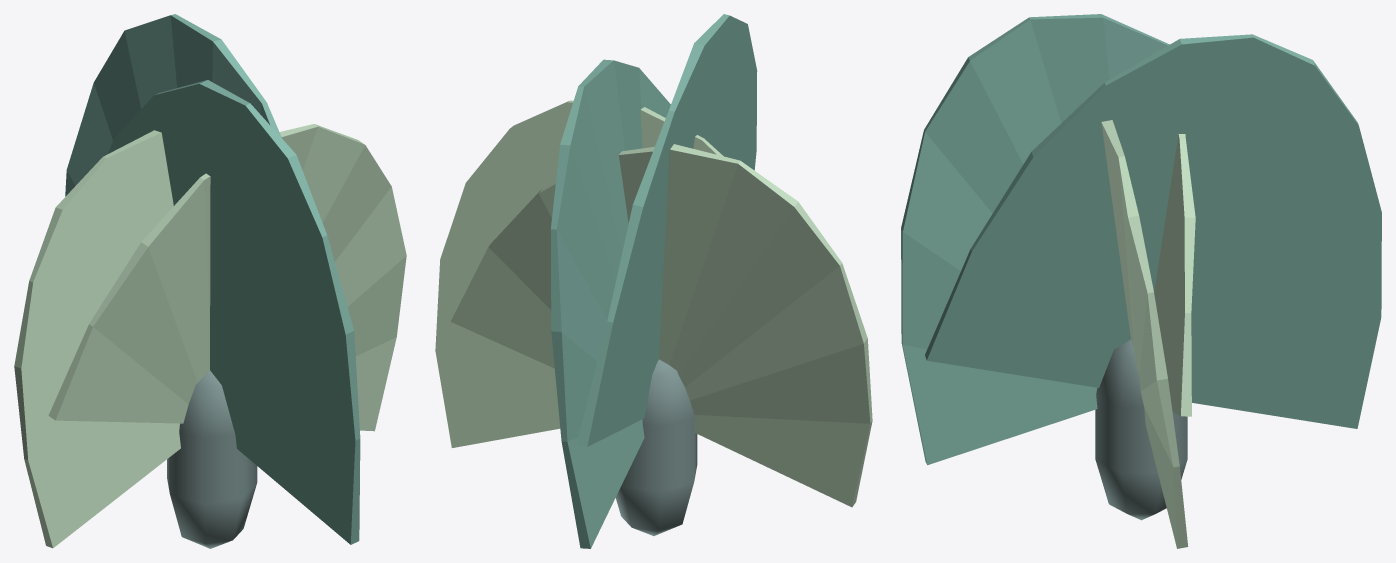
Rendered from tree-sporeFan.glb.
The picture shows the model from 3 angles, left to right: view 1: azimuth 30°, elevation 25°; view 2: azimuth 150°, elevation 25°; view 3: azimuth 270°, elevation 25°; orthographic projection.
Visible parts, largest first — view 1: fan-2, fan-1, fan-3, fan-4, root-succulent; view 2: fan-3, fan-4, fan-2, fan-1, root-succulent; view 3: fan-4, fan-2, fan-1, root-succulent, fan-3.
Boxes of the visible parts, x1,y1,x2,y2 form: fan-2: (107, 80, 360, 544); fan-1: (48, 124, 406, 431); fan-3: (14, 130, 180, 548); fan-4: (65, 14, 281, 196); root-succulent: (167, 370, 257, 548); fan-3: (450, 144, 872, 507); fan-4: (550, 59, 670, 548); fan-2: (577, 14, 757, 446); fan-1: (435, 100, 723, 447); root-succulent: (615, 359, 697, 535); fan-4: (925, 34, 1381, 428); fan-2: (901, 14, 1169, 465); fan-1: (1101, 120, 1188, 548); root-succulent: (1095, 339, 1187, 520); fan-3: (1154, 134, 1195, 416).
Size of the model in its own units: 3.51 by 4.03 by 3.56.
